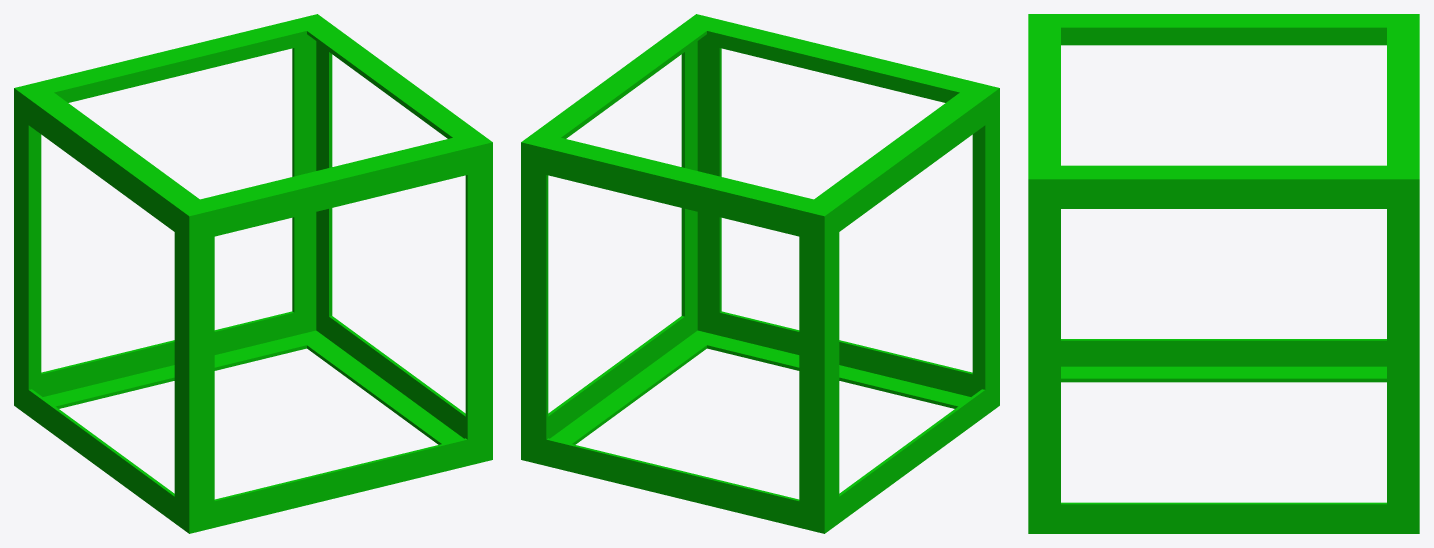
File: frame_approved.glb
3 renders of one model, left to right at view 1: azimuth 30°, elevation 25°; view 2: azimuth 150°, elevation 25°; view 3: azimuth 270°, elevation 25°, orthographic. The views are drawn at different scales.
Visible parts, largest first — view 1: frame_mesh; view 2: frame_mesh; view 3: frame_mesh.
Part boxes in pixels (x1,y1,x2,y2): frame_mesh: (14, 14, 492, 533); frame_mesh: (521, 14, 999, 533); frame_mesh: (1028, 14, 1419, 533).
Size of the model in its own units: 0.3048 by 0.3048 by 0.3048.
